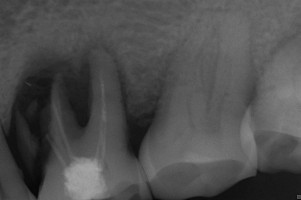Dental Caries: (7, 39, 155, 183)
